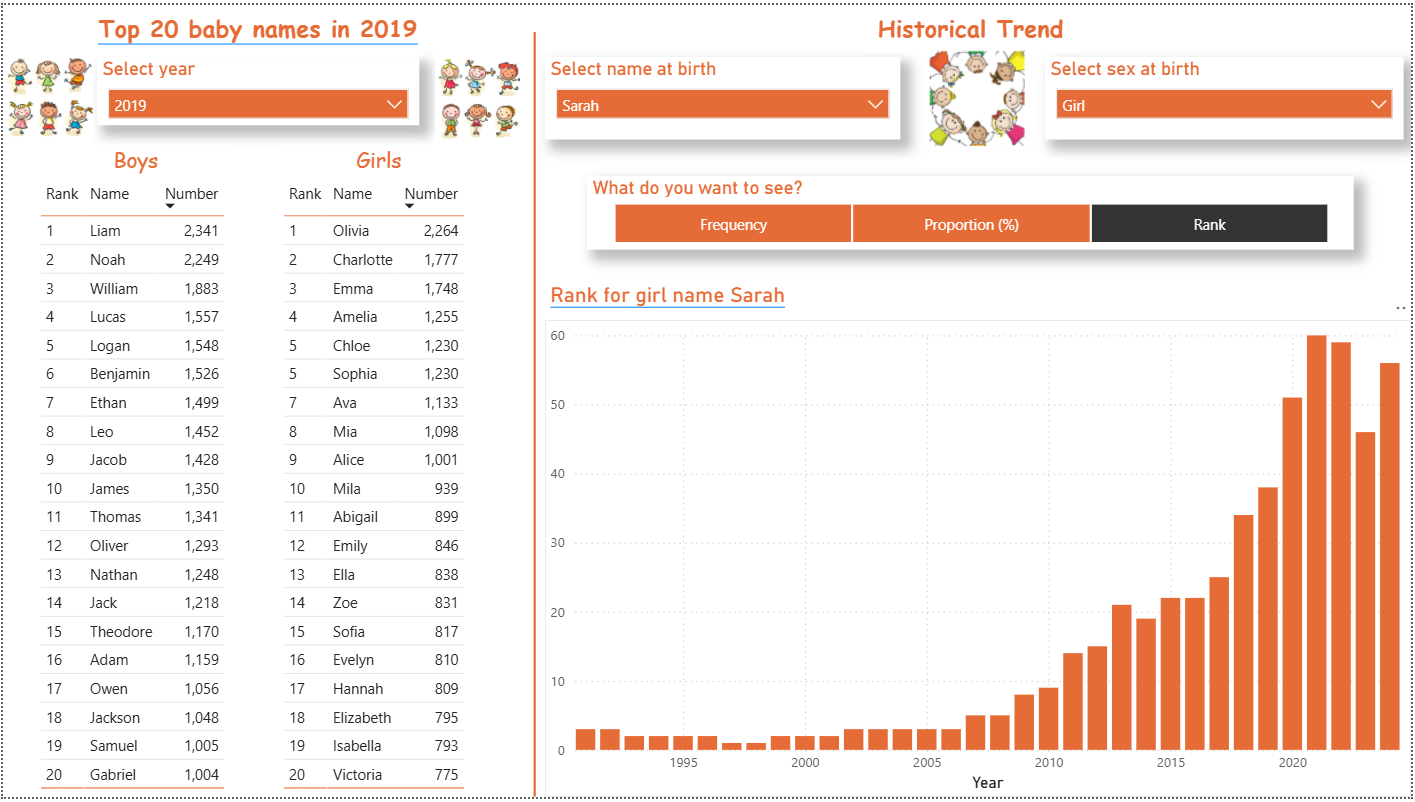

The page's visual inventory and layout, read from the dashboard file:
{"tool":"powerbi","page":{"name":"Baby Names Dashboard","canvas":[1280,720],"ordinal":0},"visuals":[{"type":"slicer","title":"Select year","fields":{"Values":["Baby Names.Latest Reference"]},"box":[85,47,293,62],"z":0},{"type":"slicer","title":"Select name at birth","fields":{"Values":["Baby Names.First name at birth"]},"box":[493,47,323,75],"z":1000},{"type":"slicer","title":"Select sex at birth","fields":{"Values":["Baby Names.Sex at birth"]},"box":[949,47,326,75],"z":2000},{"type":"tableEx","title":"Boys","fields":{"Values":["Sum(Baby Names.Rank)","Baby Names.First name at birth","Sum(Baby Names.Frequency)"]},"box":[28,127,185,593],"z":3000},{"type":"tableEx","title":"Girls","fields":{"Values":["Sum(Baby Names.Rank)","Baby Names.First name at birth","Sum(Baby Names.Frequency)"]},"box":[249,127,185,593],"z":4000},{"type":"clusteredColumnChart","title":"Frequency","fields":{"Y":["Baby Names.Frequency Aggregate"],"Category":["DimYear.Year"]},"box":[493.1,286,786.9,433.8],"z":5000},{"type":"textbox","box":[784,0,192,43],"z":6000},{"type":"image","box":[0,46.7,84.6,75.9],"z":7000},{"type":"image","box":[391,47,86,76],"z":8000},{"type":"image","box":[837,35,100,100],"z":9000},{"type":"shape","box":[473.7,24.3,19.5,695.4],"z":10000},{"type":"textbox","box":[82,0,300,47],"z":11000},{"type":"slicer","title":"What do you want to see?","fields":{"Values":["Parameter.Parameter"]},"box":[531.1,155.6,697.4,67.1],"z":12000},{"type":"textbox","box":[493.1,247.1,773.3,38.9],"z":13000}]}

Visuals, with their boxes in screenshot pixels (x1, y1, x2, y2), scaled from the page's 1280x720 canvas onto the 1415x802 screenshot:
"Select year" slicer: x1=94 y1=52 x2=418 y2=121
"Select name at birth" slicer: x1=545 y1=52 x2=902 y2=136
"Select sex at birth" slicer: x1=1049 y1=52 x2=1409 y2=136
"Boys" tableEx: x1=31 y1=141 x2=235 y2=801
"Girls" tableEx: x1=275 y1=141 x2=480 y2=801
"Frequency" clusteredColumnChart: x1=545 y1=319 x2=1414 y2=801
textbox: x1=867 y1=0 x2=1079 y2=48
image: x1=0 y1=52 x2=94 y2=137
image: x1=432 y1=52 x2=527 y2=137
image: x1=925 y1=39 x2=1036 y2=150
shape: x1=524 y1=27 x2=545 y2=801
textbox: x1=91 y1=0 x2=422 y2=52
"What do you want to see?" slicer: x1=587 y1=173 x2=1358 y2=248
textbox: x1=545 y1=275 x2=1400 y2=319
